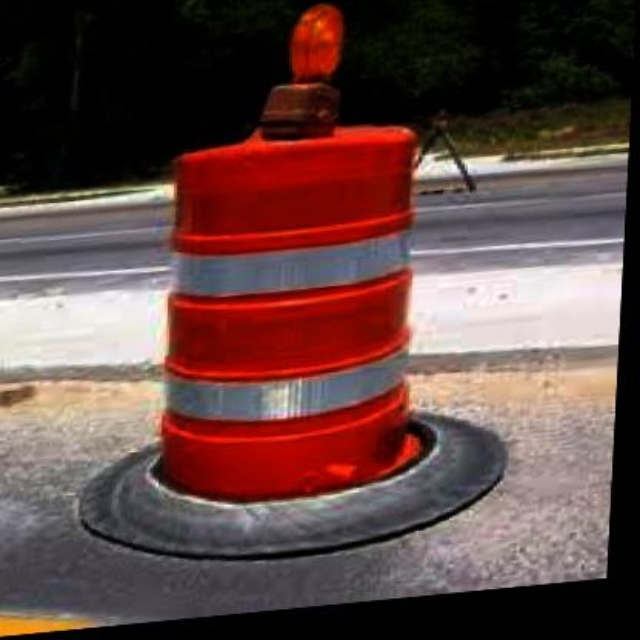obstacle: (143, 122, 469, 522)
